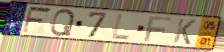7: (86, 10, 110, 39)
F: (20, 6, 54, 35), (143, 16, 173, 43)
K: (172, 17, 198, 46)
L: (110, 13, 132, 41)
Q: (49, 8, 77, 37)
